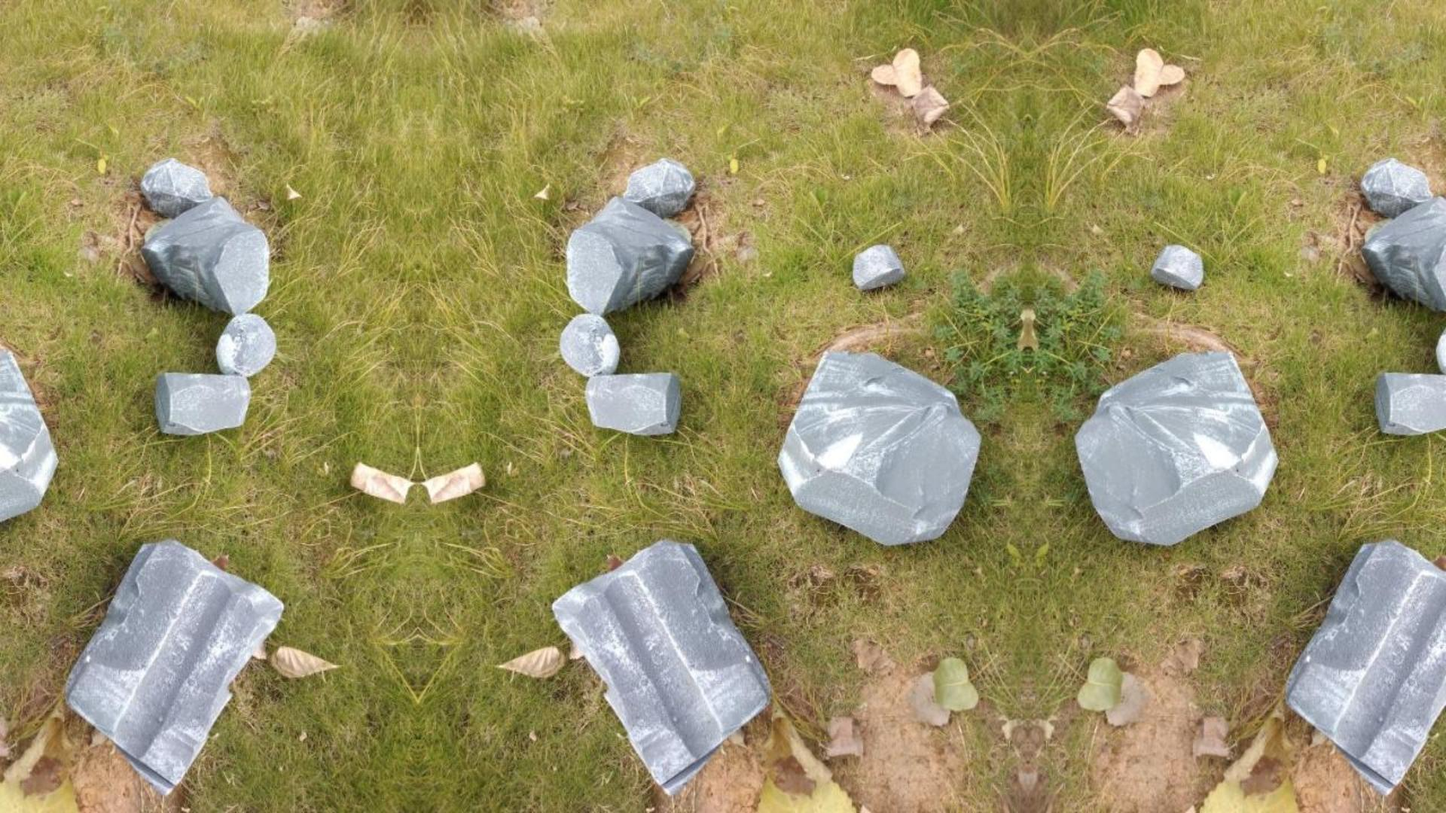rock: (552, 540, 770, 793), (64, 540, 282, 793), (1286, 540, 1445, 794), (1075, 351, 1277, 544), (778, 351, 979, 544), (566, 196, 692, 315), (142, 196, 268, 315), (0, 347, 56, 521), (1362, 198, 1445, 311), (585, 373, 680, 435), (155, 373, 250, 435), (1375, 373, 1445, 435), (1360, 157, 1431, 217), (624, 158, 695, 217), (140, 158, 211, 217), (216, 313, 276, 376), (559, 314, 619, 376), (852, 245, 905, 289), (1150, 245, 1203, 289), (1436, 329, 1445, 374)
